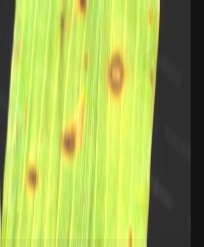Bacterial_Leaf_Blight: (55, 101, 88, 160), (100, 43, 128, 96), (13, 151, 49, 191), (124, 223, 139, 246), (143, 4, 156, 25), (76, 0, 89, 12)
